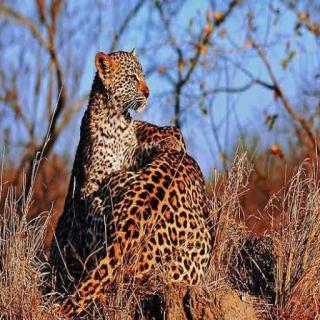Leopard: (73, 37, 151, 239)
